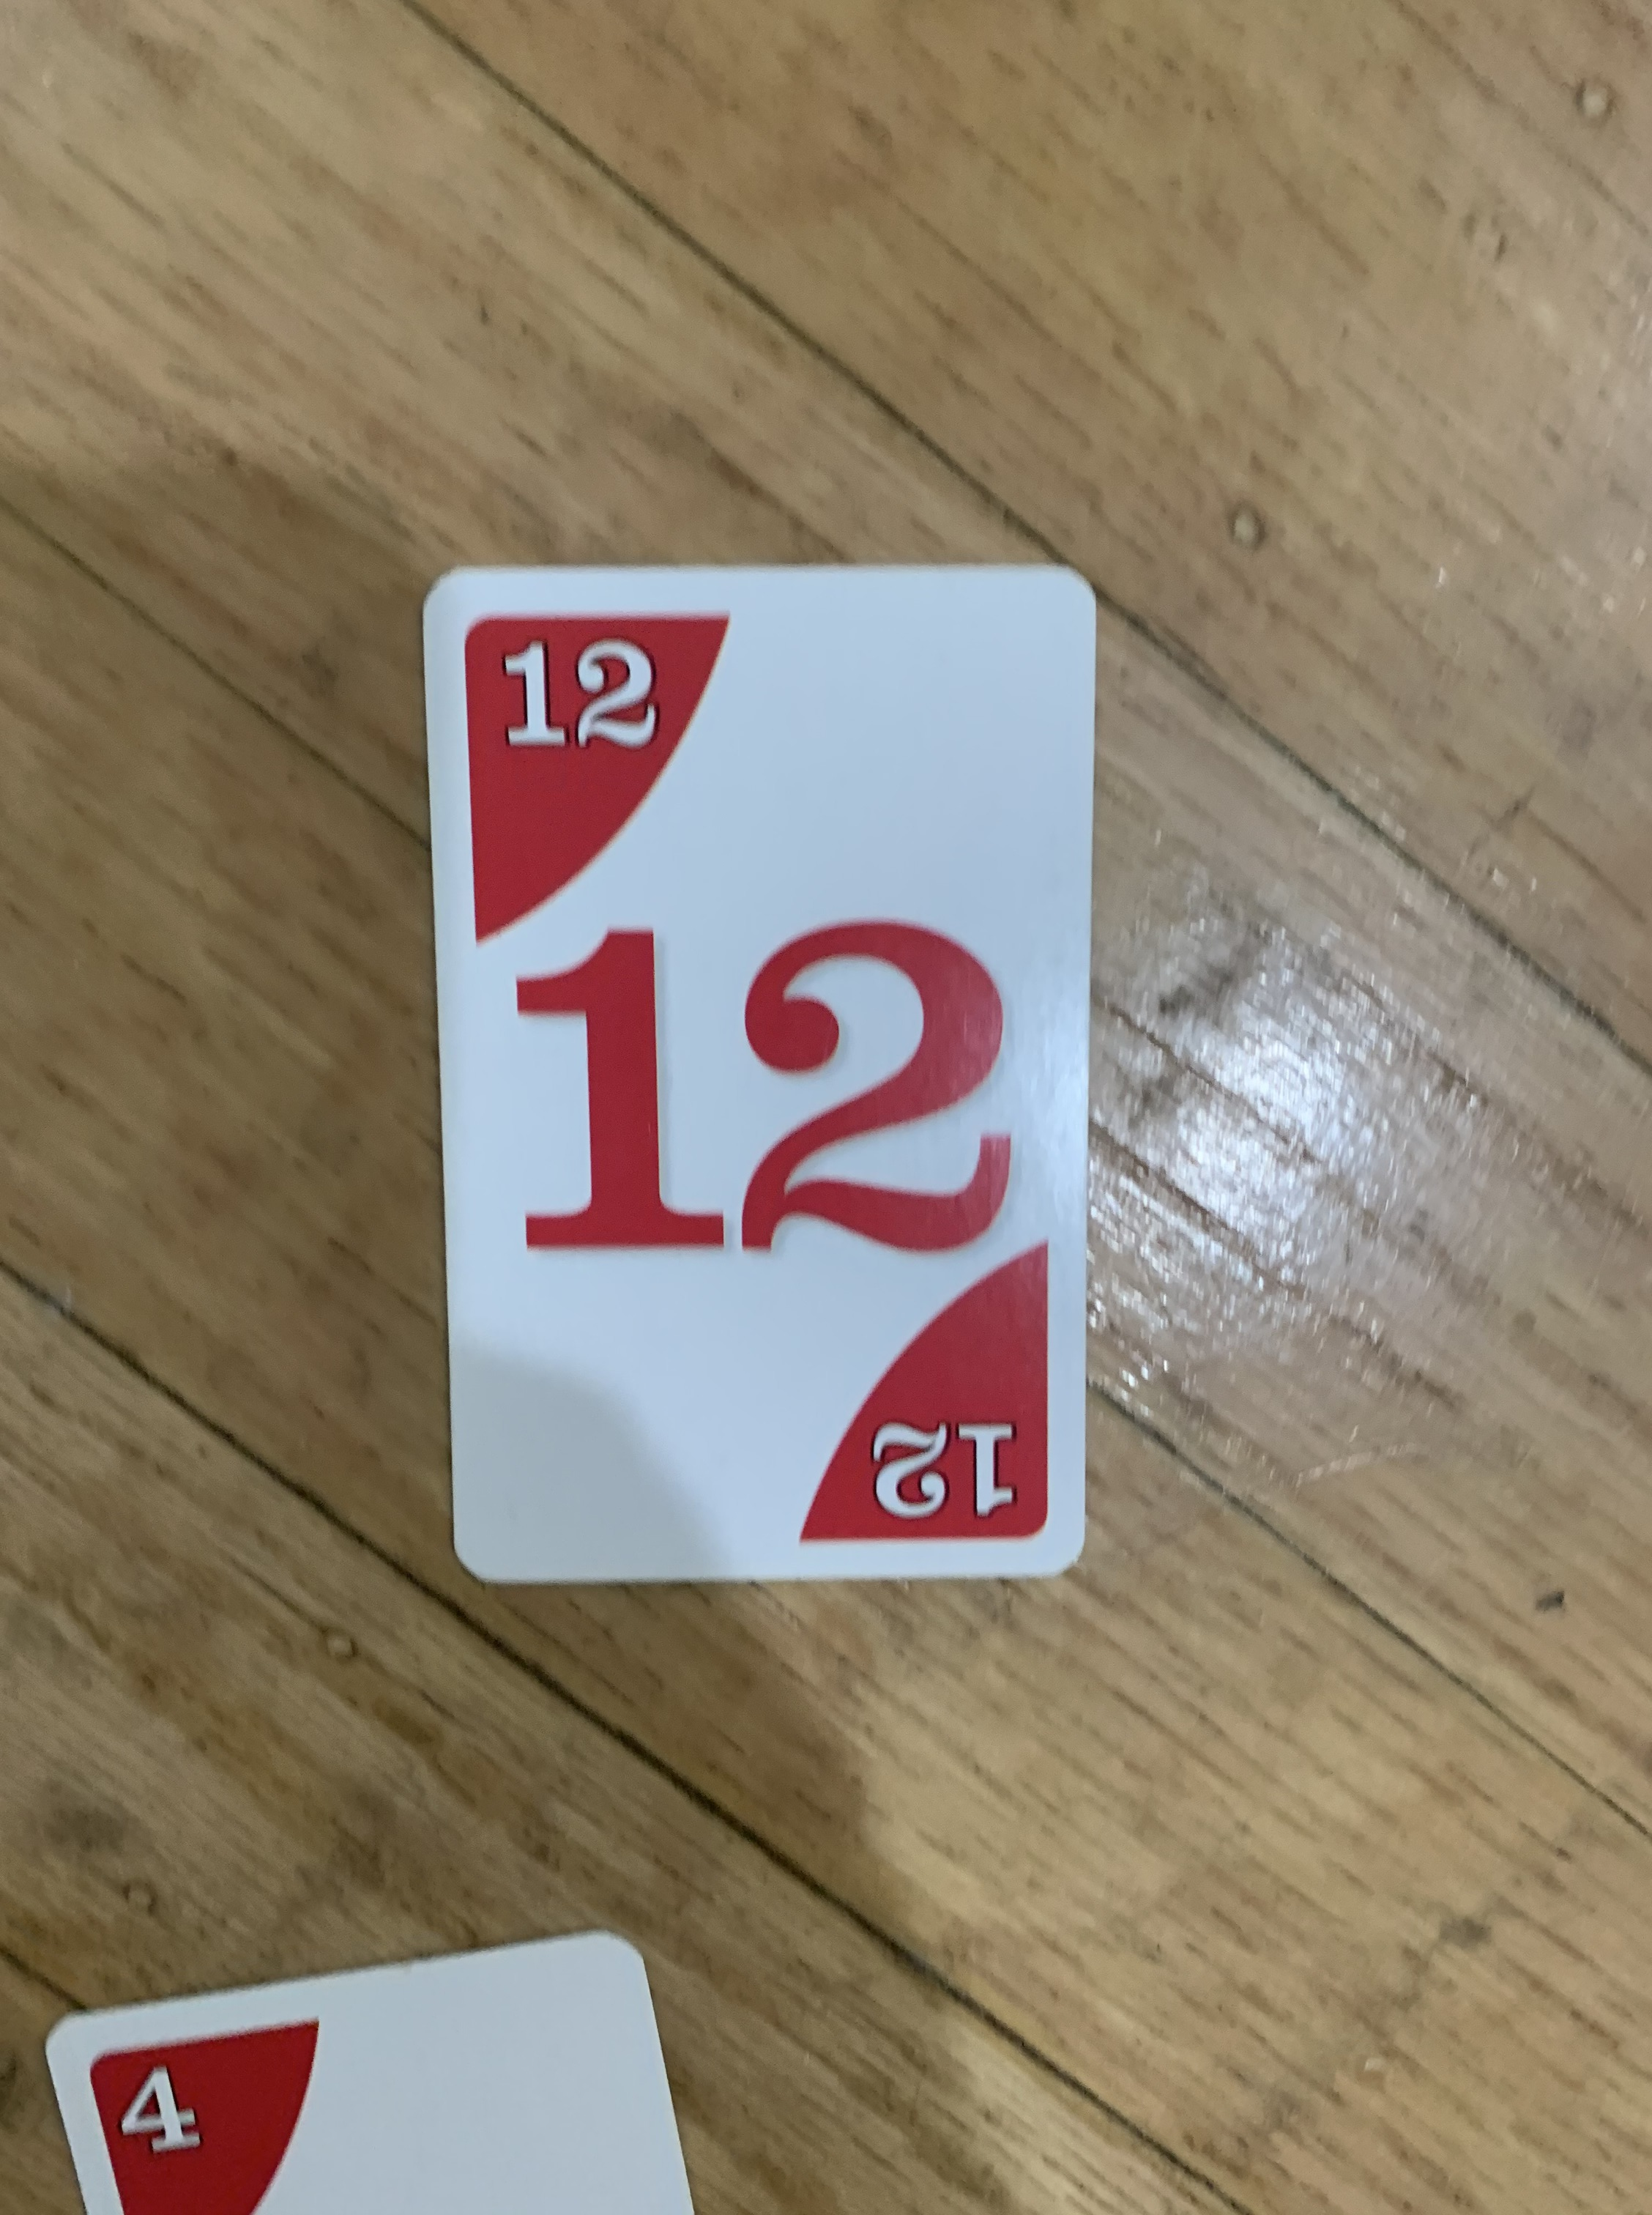twelve: (411, 554, 1098, 1594)
